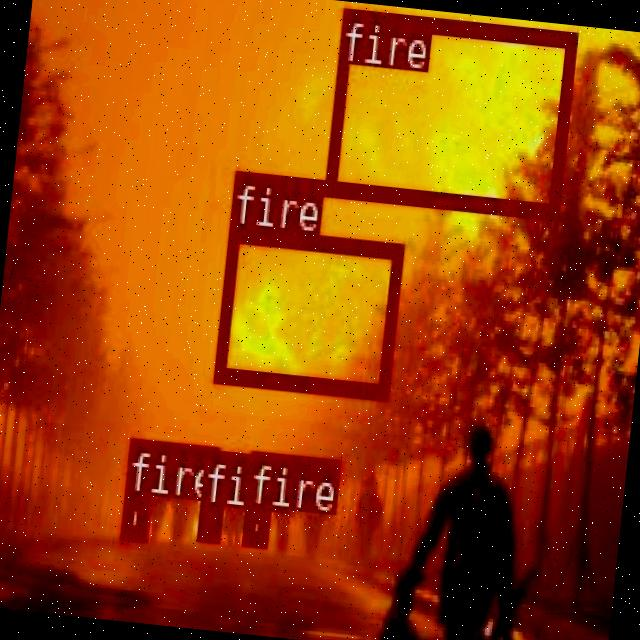fire: (322, 5, 576, 217), (210, 222, 402, 398), (117, 492, 146, 536), (242, 502, 268, 544), (195, 501, 221, 540)
